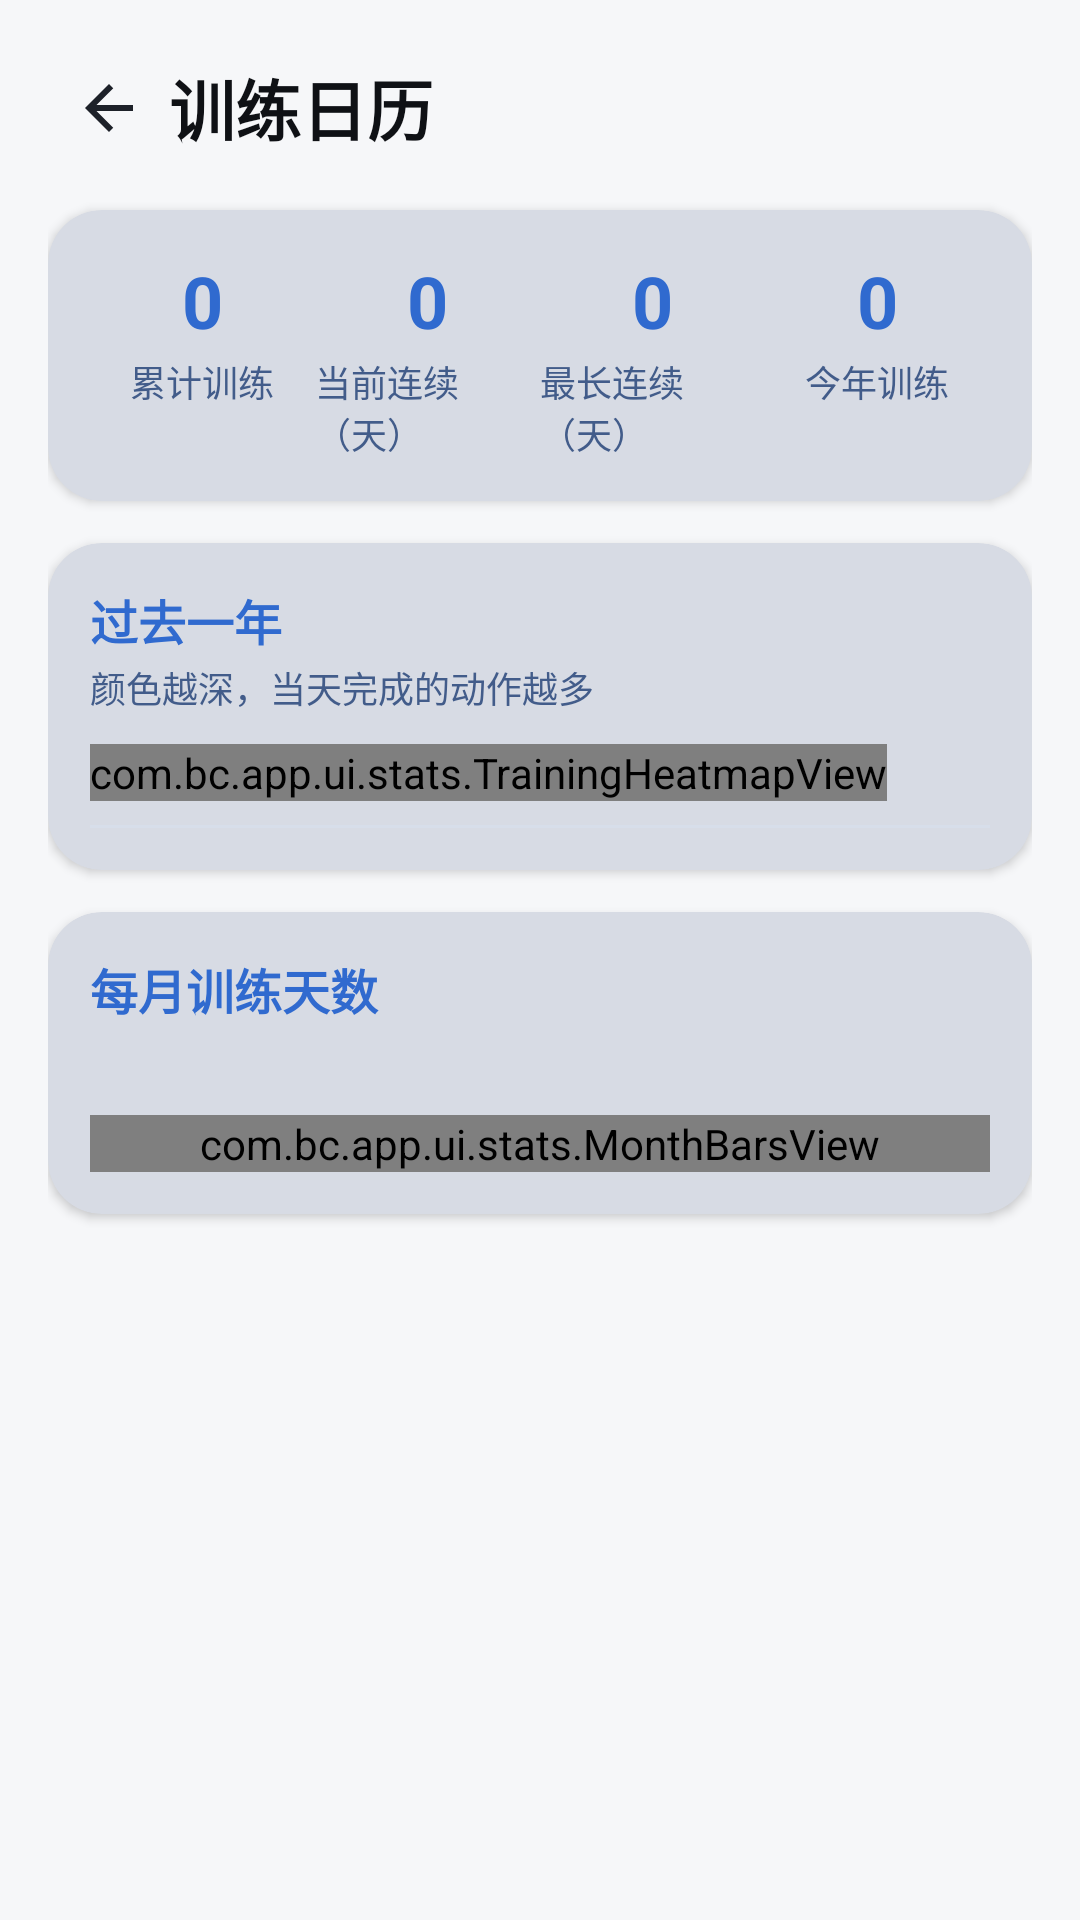

Named icons in this screenshot (1080x1920) and their bounding boxes, BBox(x1, y1, x2, y2):
返回: BBox(85, 84, 133, 132)
